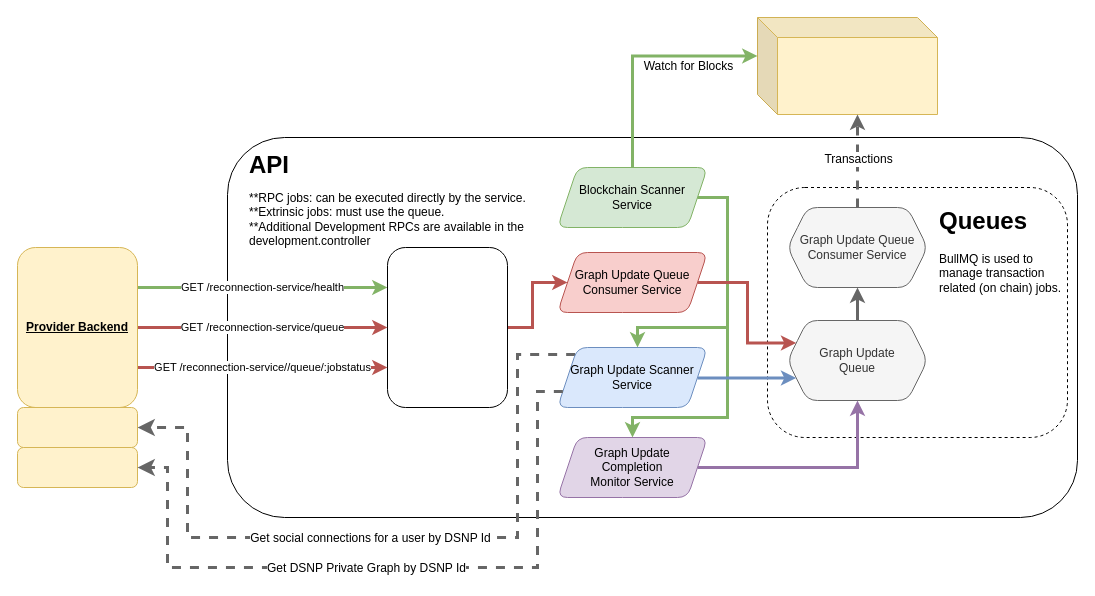
Image size: 1095x596. Some labels were removed from this diagram. The centre of each missing label's shape, as x and y in pixels:
API Controllers: the point at 447,327
Frequency Chain: the point at 847,65
Graph Key API: the point at 77,467
Social Connections API: the point at 77,427
